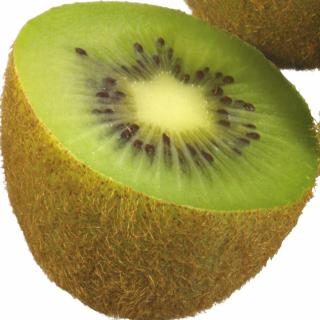kiwi: (0, 0, 320, 320)
